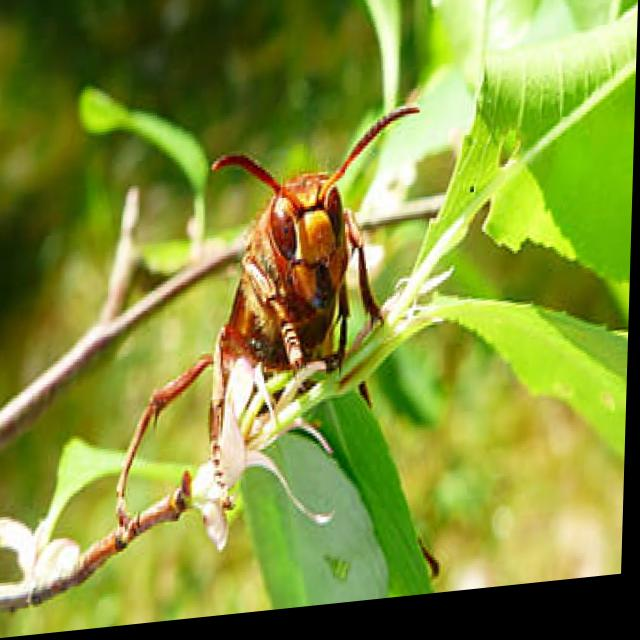Vespa Crabro: (105, 74, 458, 529)
